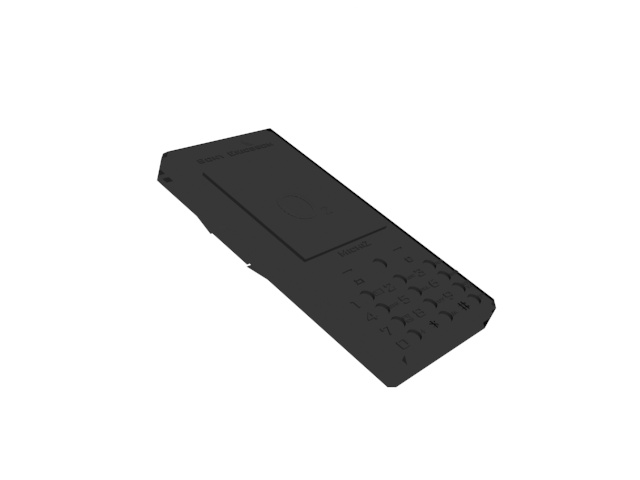mobile_phone: (153, 129, 504, 392)
